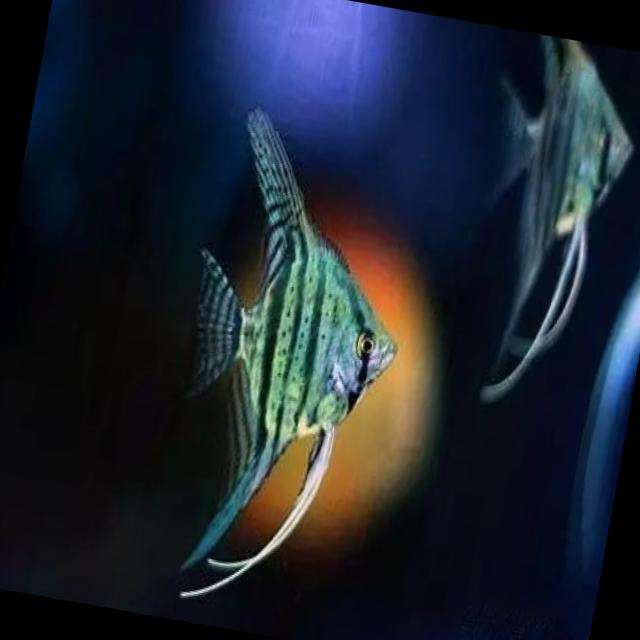AngelFish: (146, 100, 440, 628), (443, 28, 640, 427)
